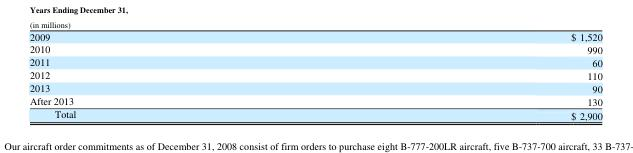table: (28, 29, 601, 121)
table column: (28, 29, 322, 121), (322, 29, 601, 121)
table row: (28, 93, 601, 107), (28, 107, 601, 121), (28, 41, 601, 54), (28, 54, 601, 67), (28, 67, 601, 80), (28, 80, 601, 93), (28, 29, 601, 41)
